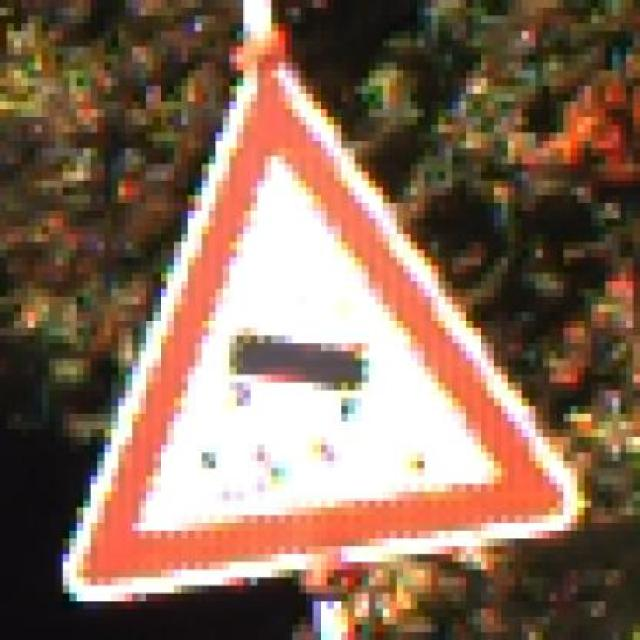Slippery Road Ahead: (56, 62, 598, 608)
